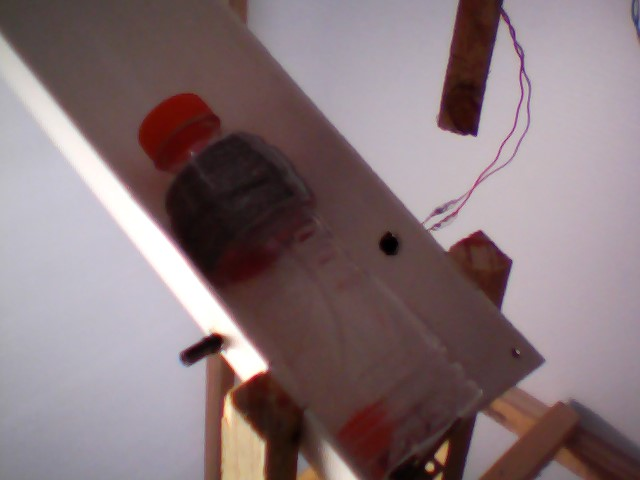plastico: (132, 89, 490, 480)
